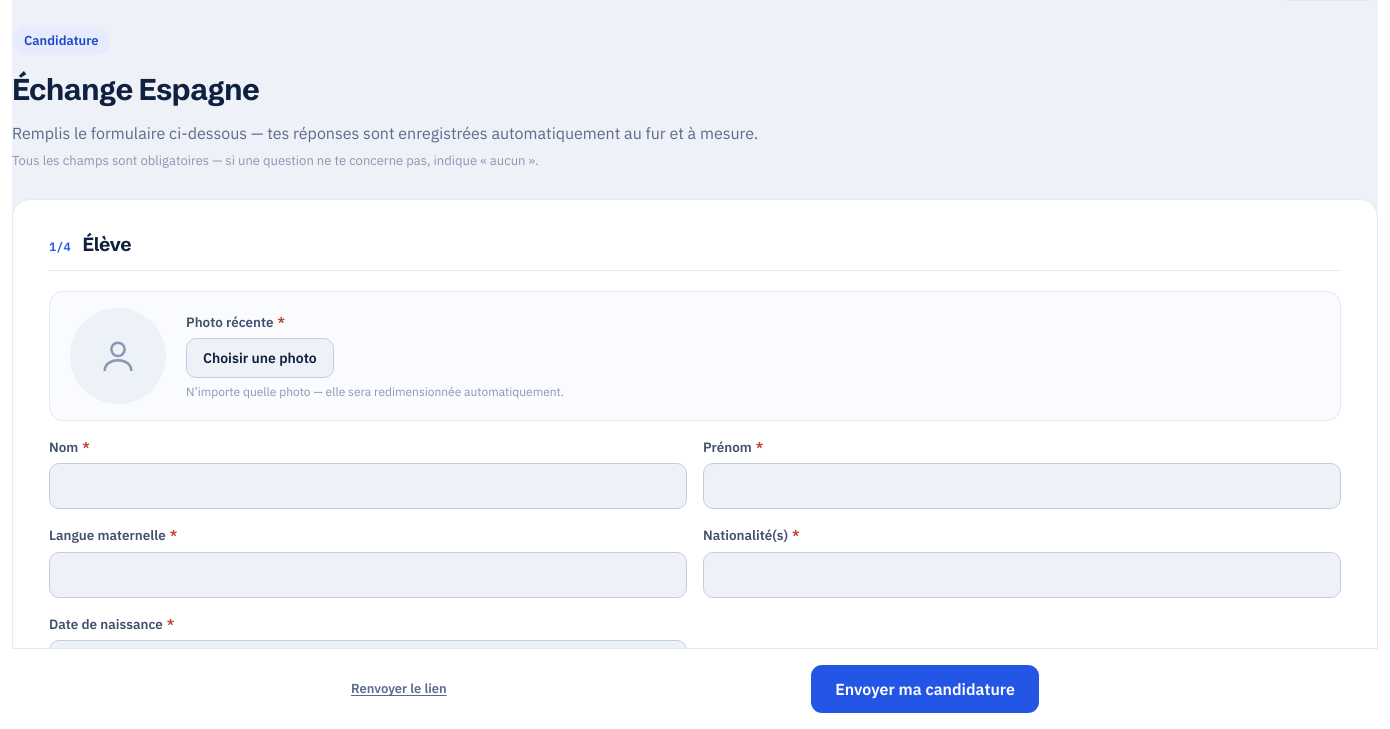
Test: ApplicationForm › blocks submit and flags the photo when validation reports it missing
Click the button "Envoyer ma candidature" at (925, 689), box [811,665,1039,713]
(page scrolled)
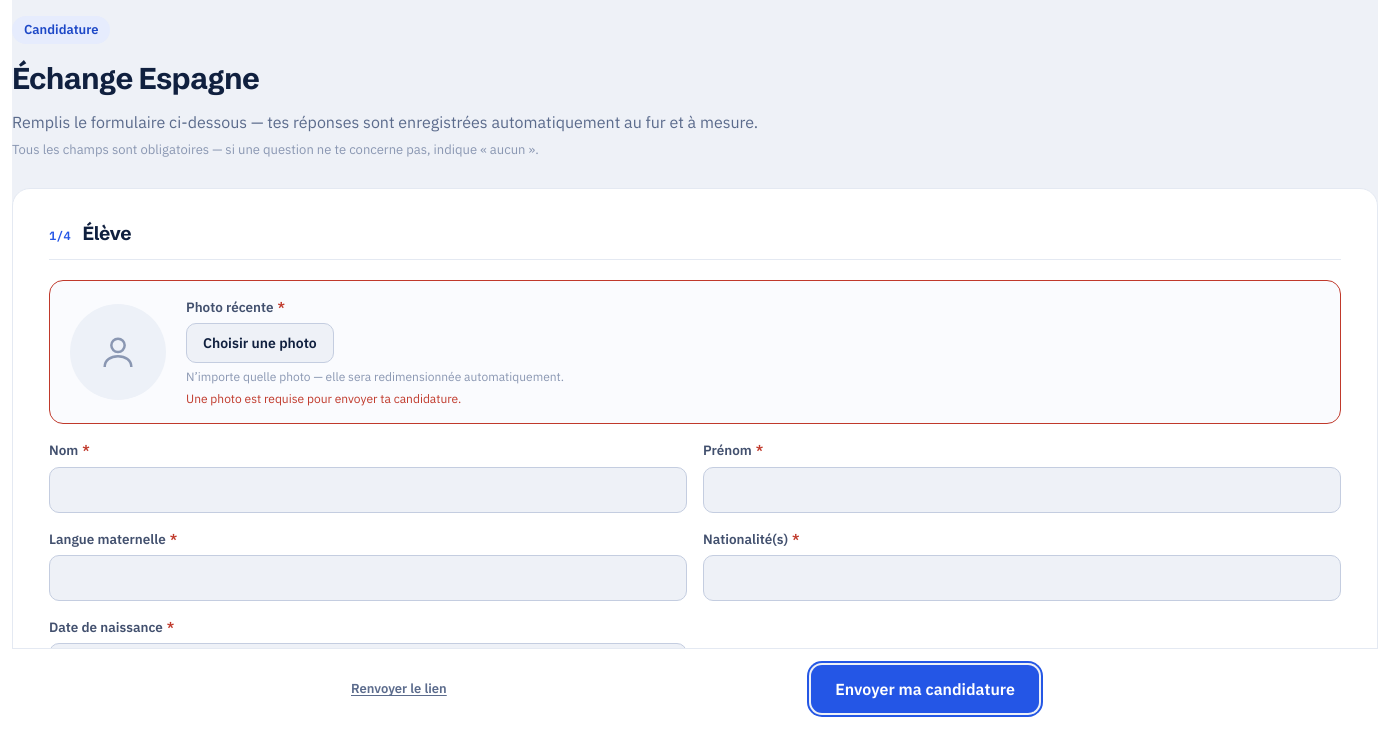
Expected: the text "Une photo est requise pour envoyer ta candidature." is shown, [186,391,461,406]
